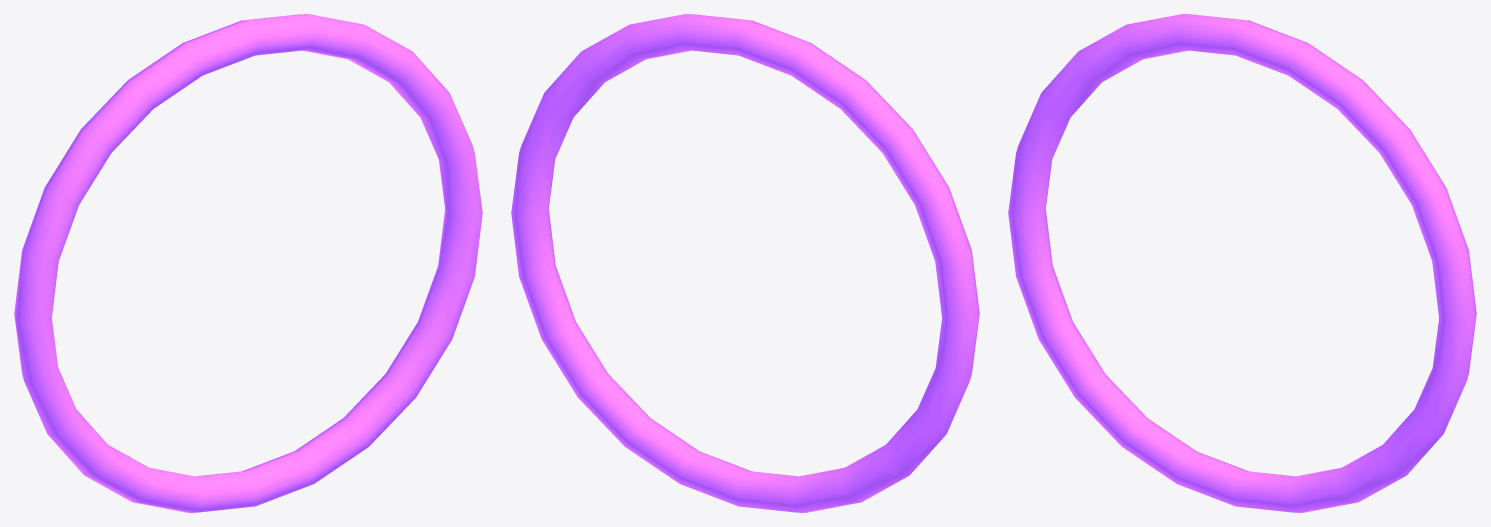
File: portal-ring-purple.glb
The picture shows the model from 3 angles, left to right: view 1: azimuth 30°, elevation 25°; view 2: azimuth 150°, elevation 25°; view 3: azimuth 330°, elevation 25°; orthographic projection.
Parts seen in each view (by area): view 1: PortalRingPurple; view 2: PortalRingPurple; view 3: PortalRingPurple.
Boxes of the visible parts, x1,y1,x2,y2 form: PortalRingPurple: (14, 14, 482, 512); PortalRingPurple: (511, 14, 979, 512); PortalRingPurple: (1008, 14, 1476, 512).
Bounding box in the file's own units: 2.48 × 2.48 × 0.18.
